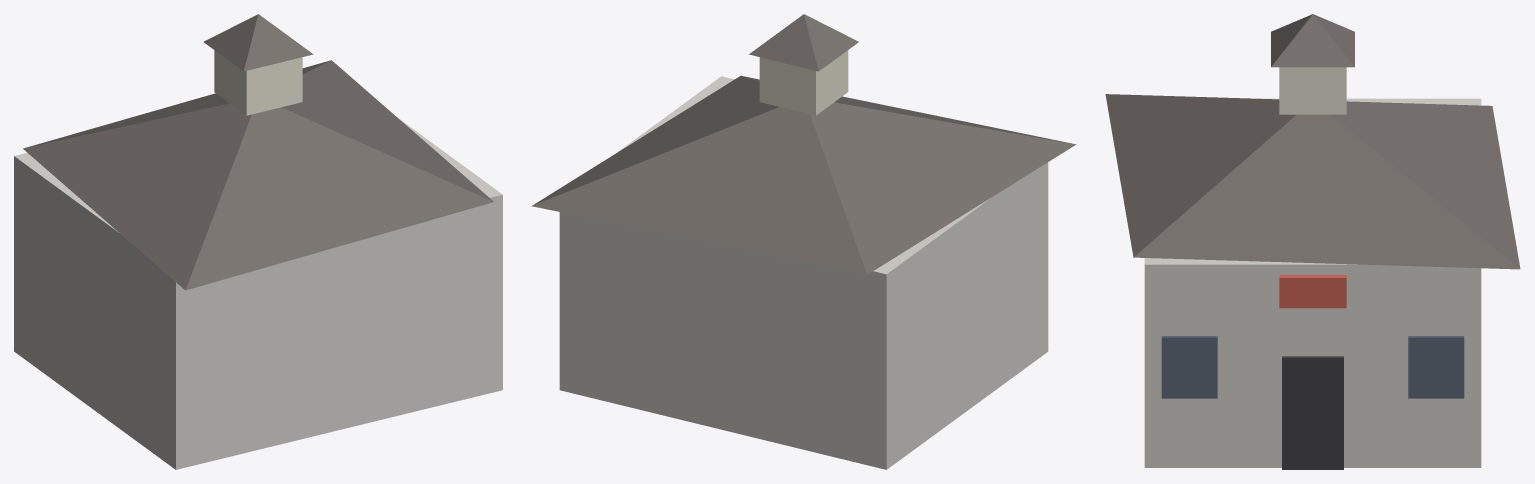
The model's file is sheriff.glb.
3 views of the same model, side by side, from view 1: azimuth 30°, elevation 25°; view 2: azimuth 150°, elevation 25°; view 3: azimuth 270°, elevation 25° (orthographic). The views are drawn at different scales.
Parts seen in each view (by area): view 1: body.001, roof.001, cupola, cap; view 2: body.001, roof.001, cupola, cap; view 3: roof.001, body.001, door.001, cap, win.002, win.003, cupola, badge.
Part boxes in pixels (left/top/right/bottom): body.001: left=14, top=117, right=502, bottom=469; roof.001: left=23, top=60, right=493, bottom=290; cupola: left=214, top=50, right=302, bottom=115; cap: left=203, top=14, right=313, bottom=71; body.001: left=559, top=76, right=1048, bottom=469; roof.001: left=531, top=75, right=1076, bottom=274; cupola: left=759, top=50, right=848, bottom=115; cap: left=749, top=14, right=858, bottom=71; roof.001: left=1105, top=94, right=1520, bottom=269; body.001: left=1144, top=98, right=1481, bottom=467; door.001: left=1282, top=356, right=1343, bottom=469; cap: left=1271, top=14, right=1354, bottom=67; win.002: left=1161, top=336, right=1217, bottom=398; win.003: left=1408, top=336, right=1464, bottom=398; cupola: left=1279, top=67, right=1346, bottom=114; badge: left=1279, top=275, right=1346, bottom=308.
Bounding box in the file's own units: 7.4 × 7.3 × 7.4.
